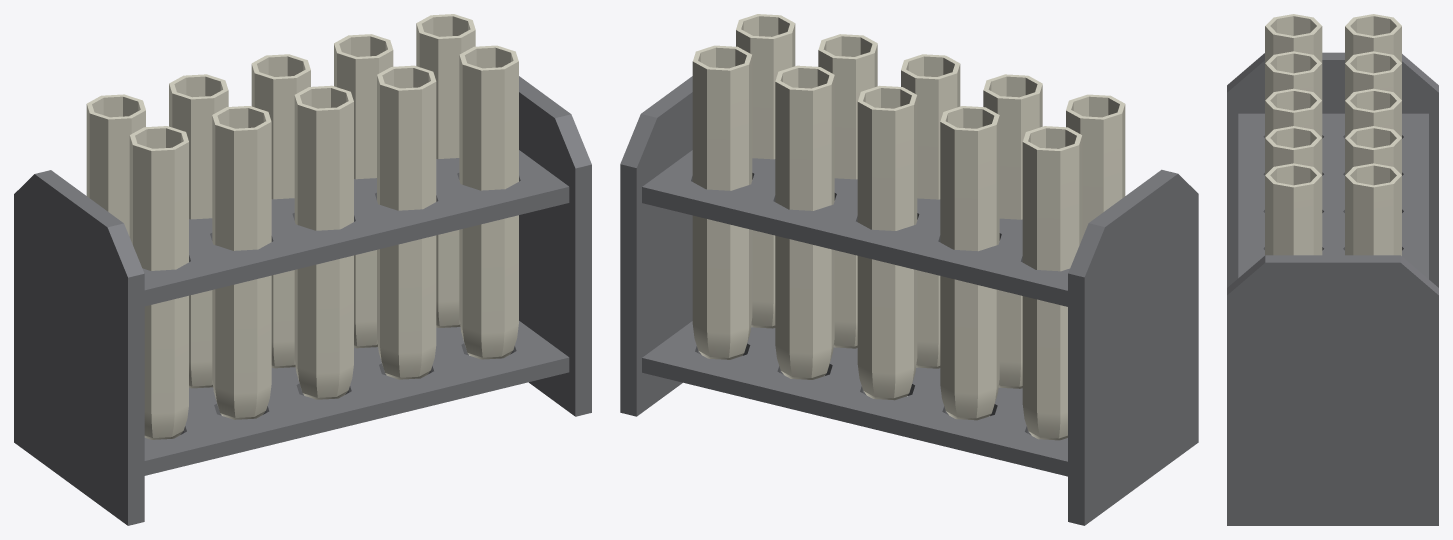
The model's file is rack-of-test-tubes.fbx.
3 renders of one model, left to right at view 1: azimuth 30°, elevation 25°; view 2: azimuth 150°, elevation 25°; view 3: azimuth 270°, elevation 25°, orthographic. The views are drawn at different scales.
Parts seen in each view (by area): view 1: test_tubes, rack; view 2: test_tubes, rack; view 3: rack, test_tubes.
Part boxes in pixels (bbox=[...]): test_tubes: bbox=[86, 14, 518, 439]; rack: bbox=[14, 76, 591, 525]; test_tubes: bbox=[692, 14, 1125, 440]; rack: bbox=[620, 76, 1198, 525]; rack: bbox=[1227, 52, 1438, 525]; test_tubes: bbox=[1265, 14, 1401, 255].
Size of the model in its own units: 39.13 by 27.79 by 16.66.
